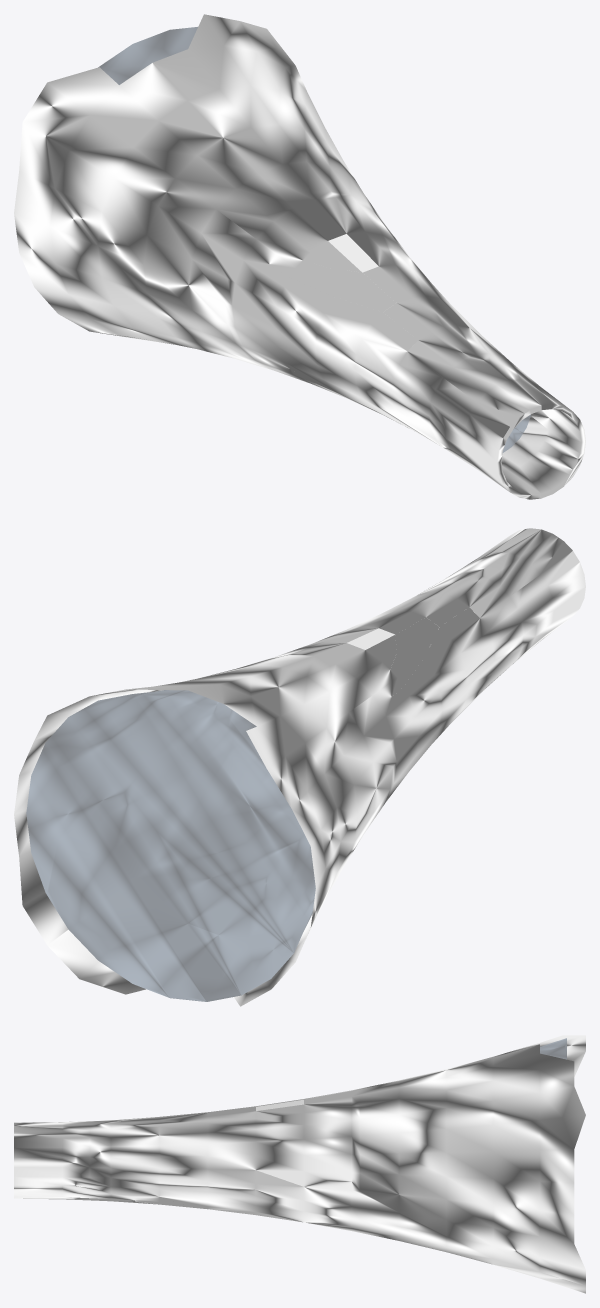
File: model_align.obj
3 views of the same model, one above another, from view 1: azimuth 30°, elevation 25°; view 2: azimuth 150°, elevation 25°; view 3: azimuth 270°, elevation 25° (orthographic). The views are drawn at different scales.
Size of the model in its own units: 0.0815 by 0.0787 by 0.1797.
